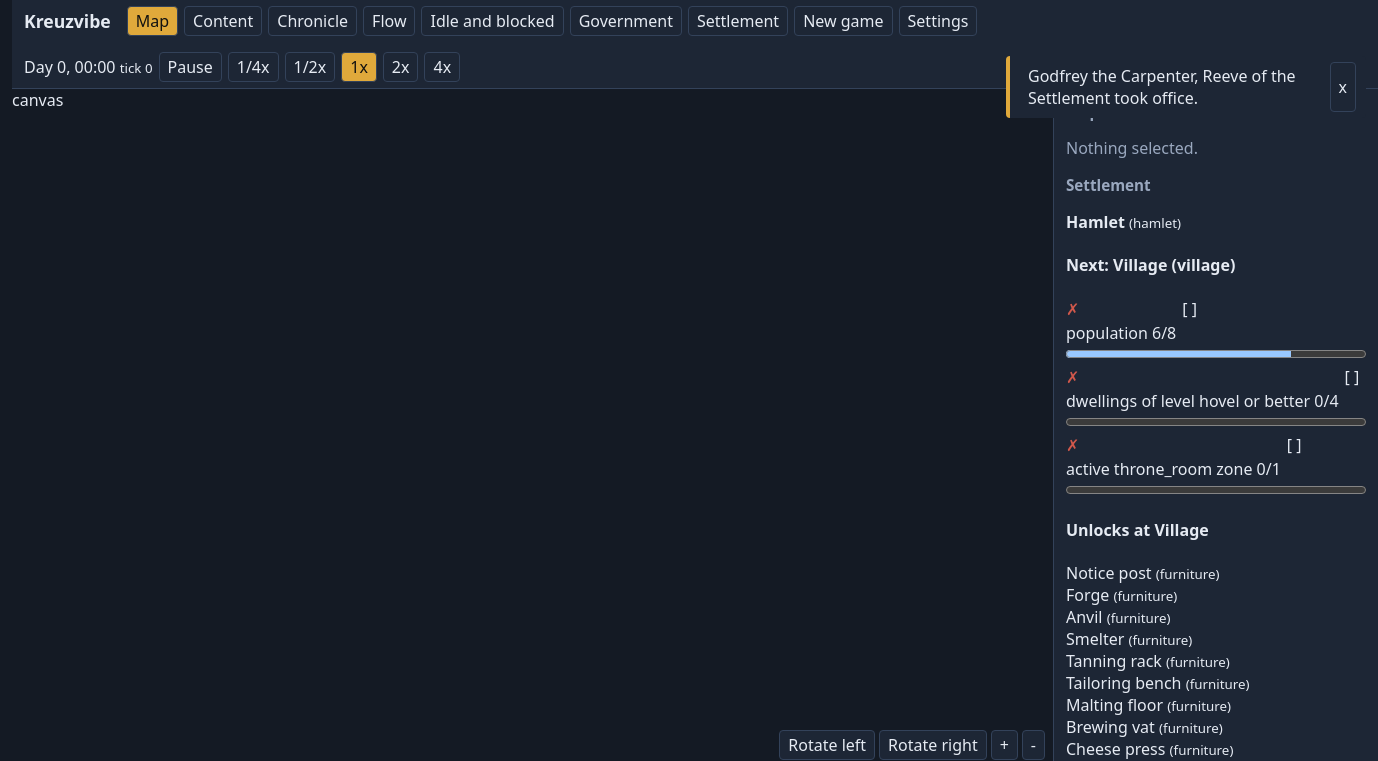
Test: GovernmentScreen › is the Government entry of the shell and opens on the job boards
Click the button "Government".
click(626, 21)  # box [570, 6, 682, 36]
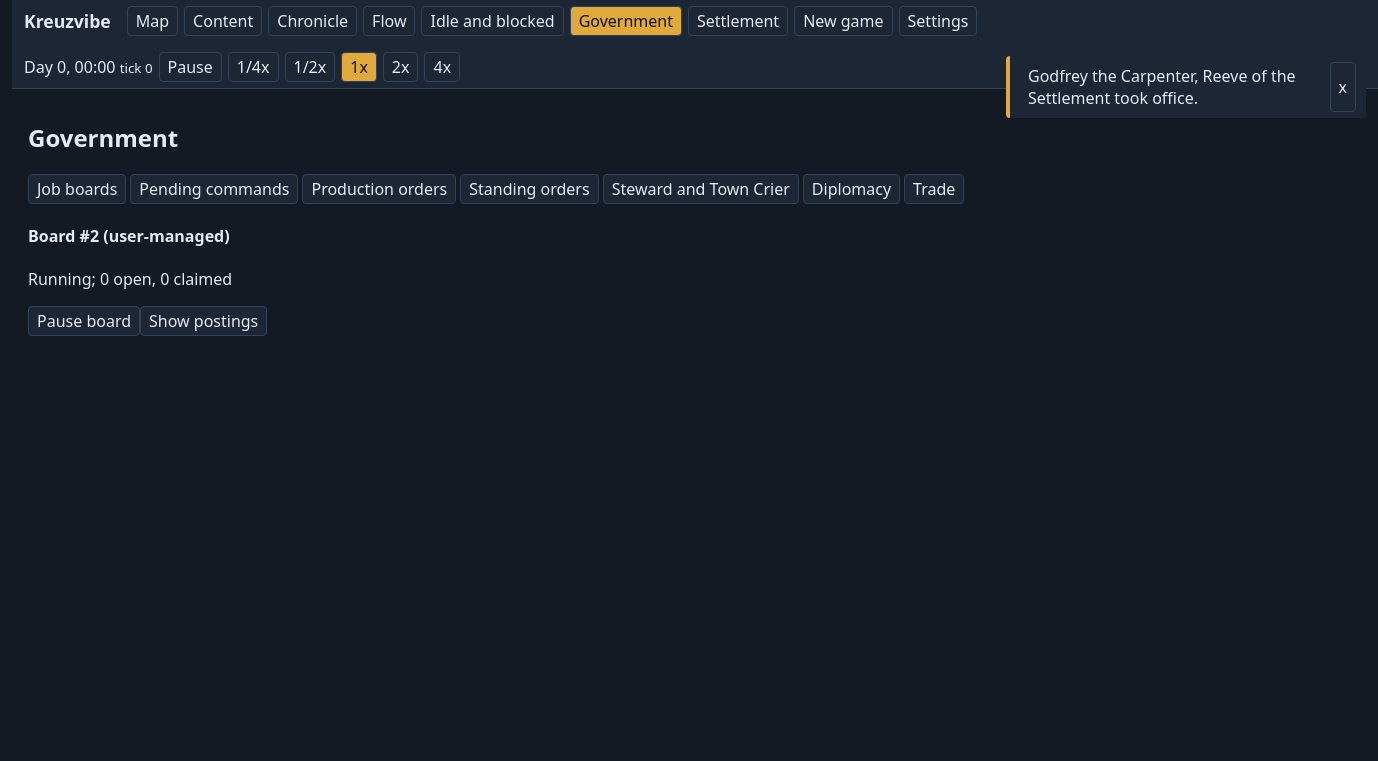
Expected: the heading "Board #2 (user-managed)" is shown, [28, 225, 230, 247]
